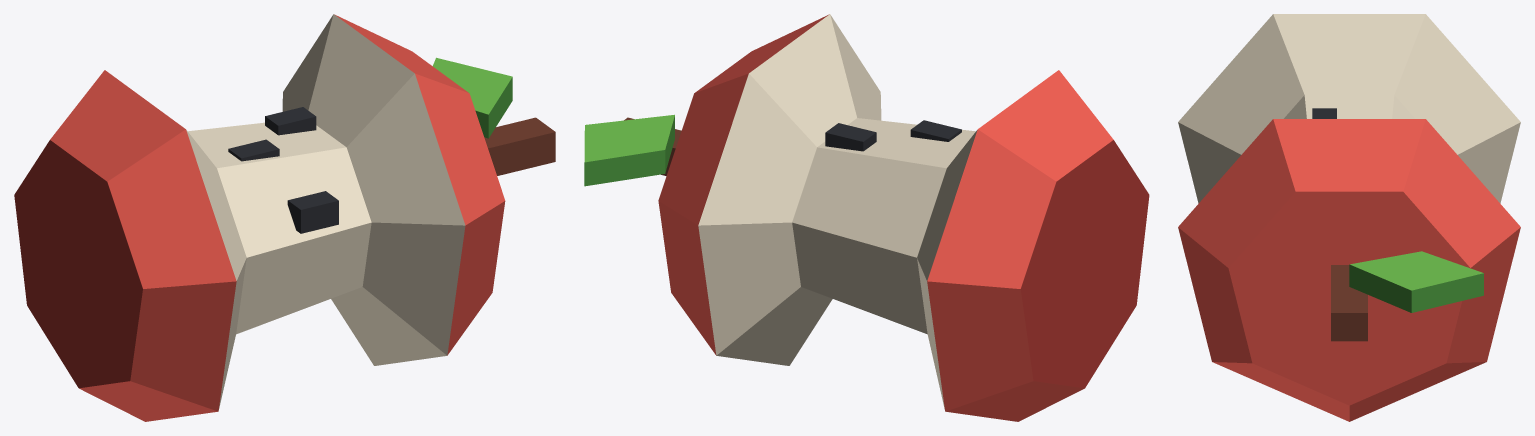
File: J_AppleCore.fbx
3 views of the same model, side by side, from view 1: azimuth 30°, elevation 25°; view 2: azimuth 150°, elevation 25°; view 3: azimuth 270°, elevation 25° (orthographic). The views are drawn at different scales.
Parts seen in each view (by area): view 1: J_AppleCore; view 2: J_AppleCore; view 3: J_AppleCore.
Boxes of the visible parts, x1,y1,x2,y2 form: J_AppleCore: (14, 14, 555, 421); J_AppleCore: (584, 14, 1149, 421); J_AppleCore: (1178, 14, 1520, 421).
Bounding box in the file's own units: 0.49 × 0.3232 × 0.3315.
